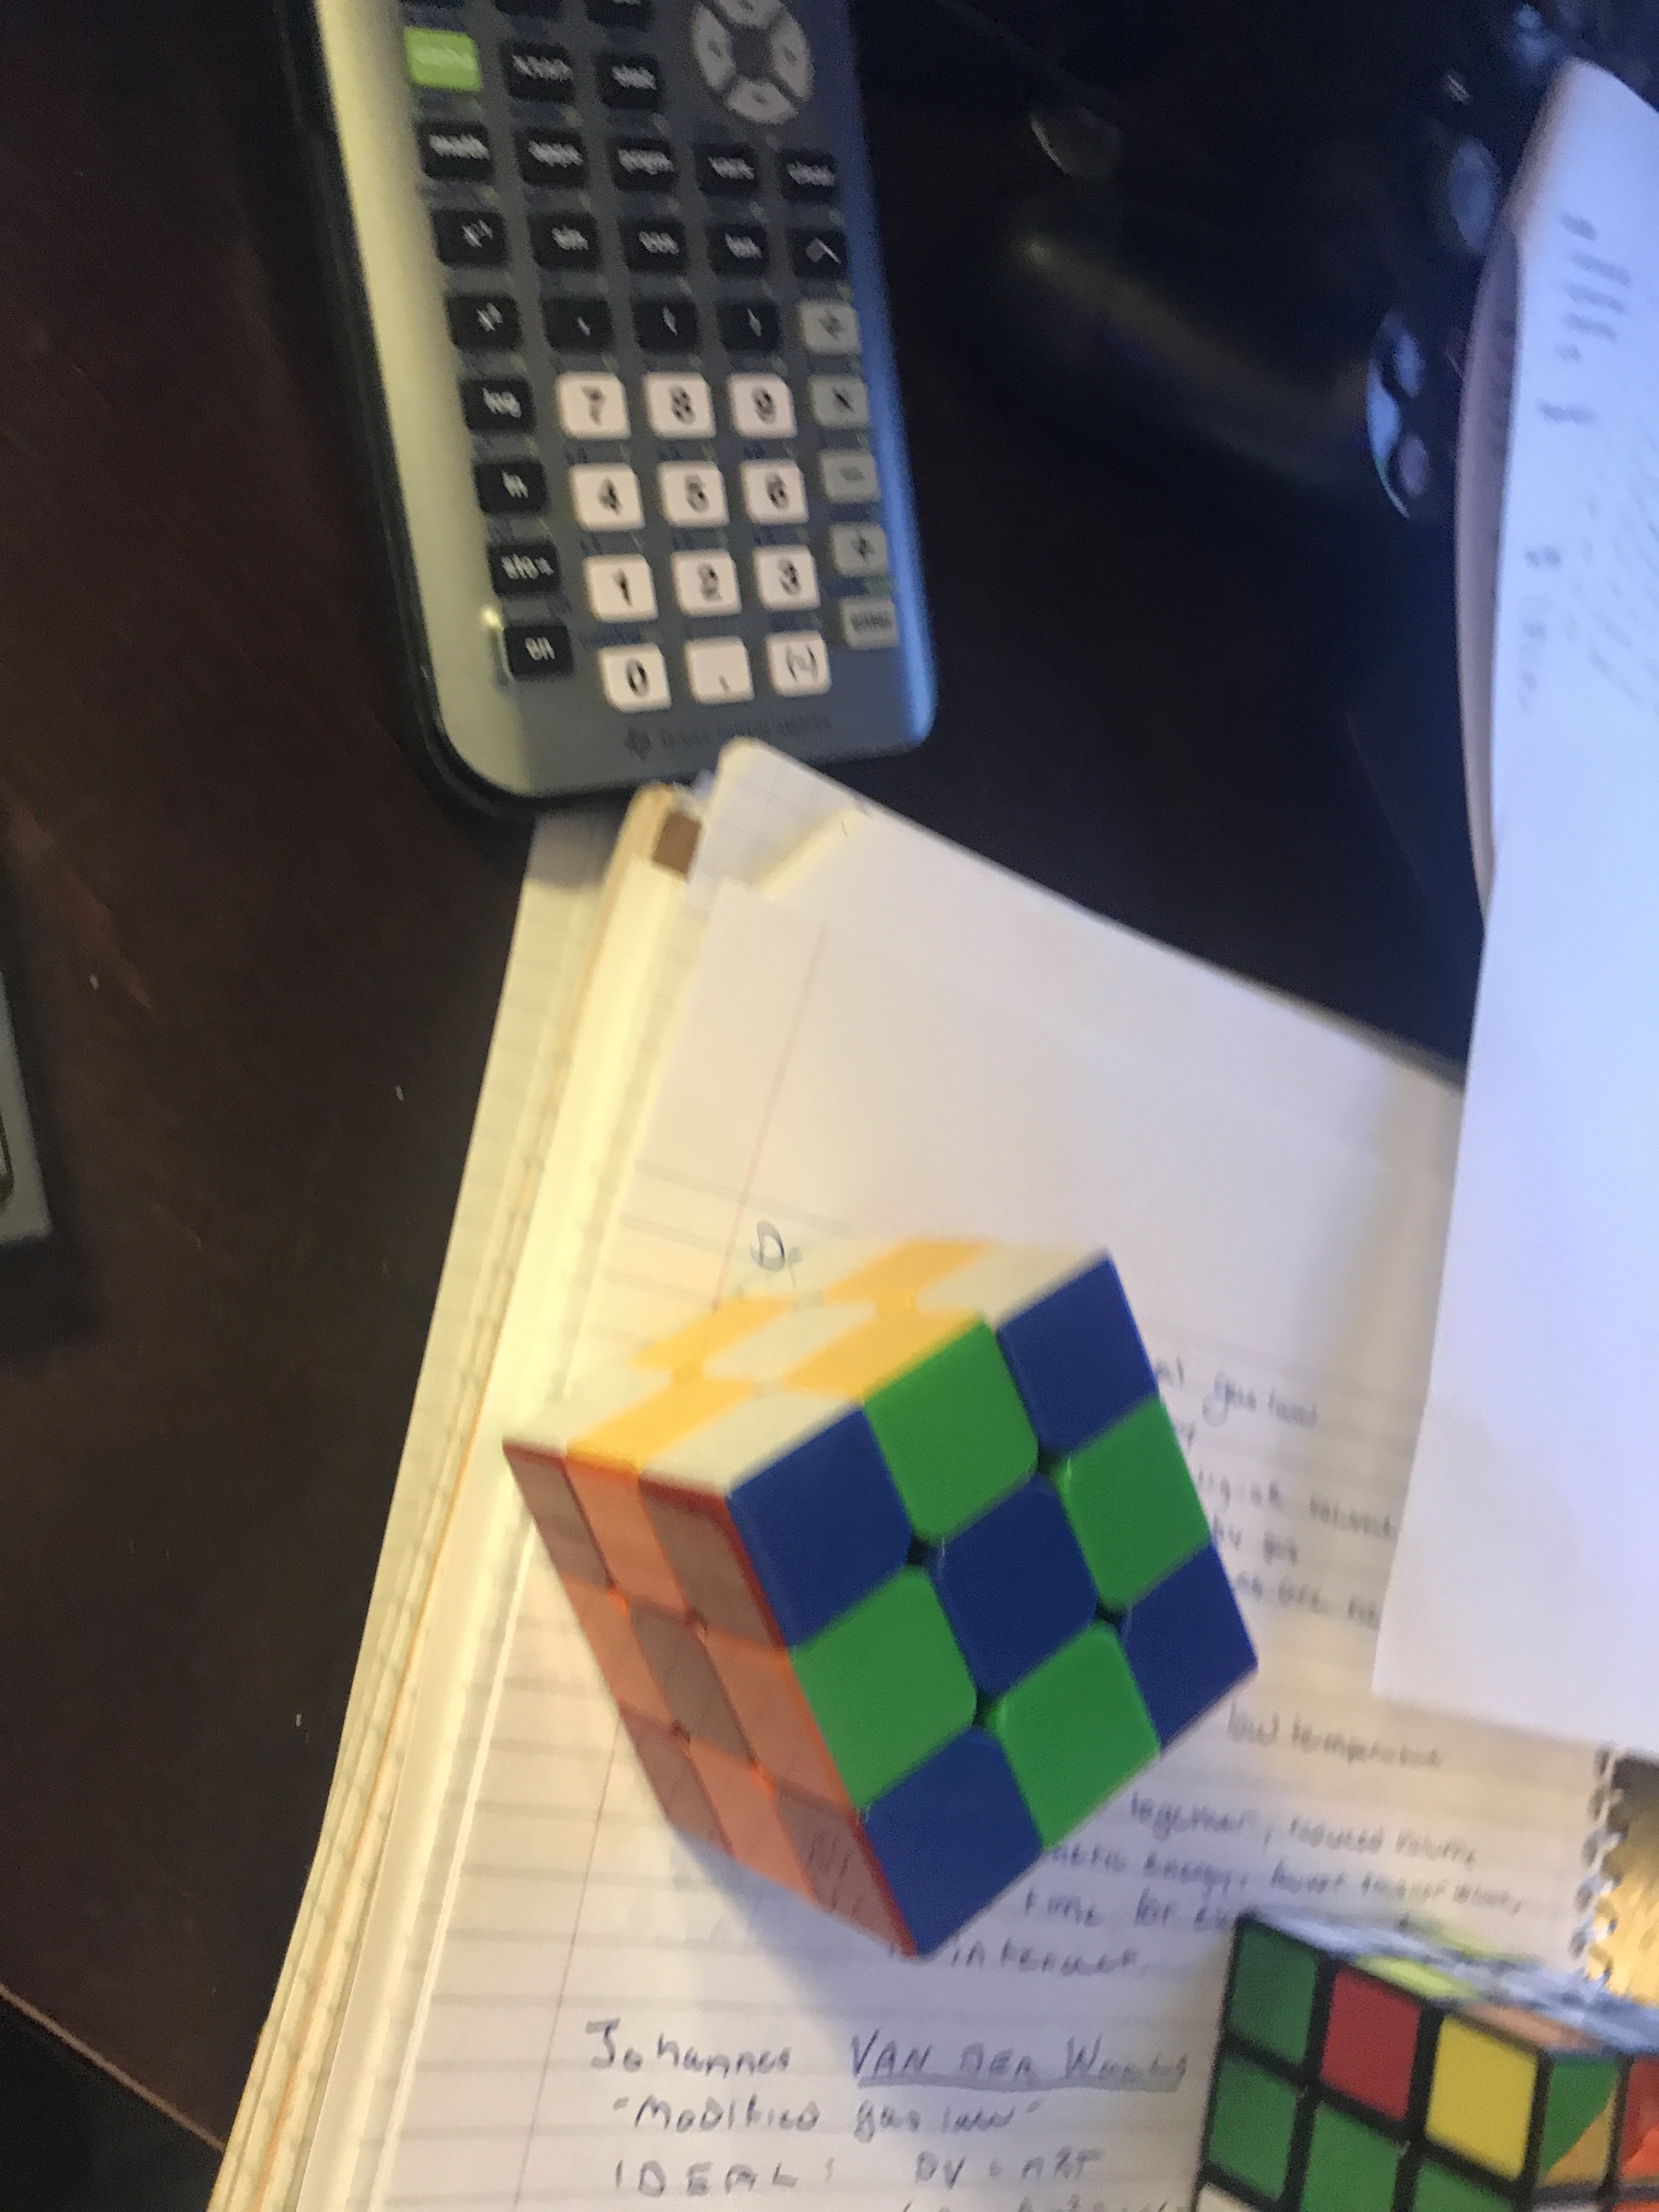rubiks: (498, 1221, 1256, 1940), (1194, 1912, 1659, 2209)
